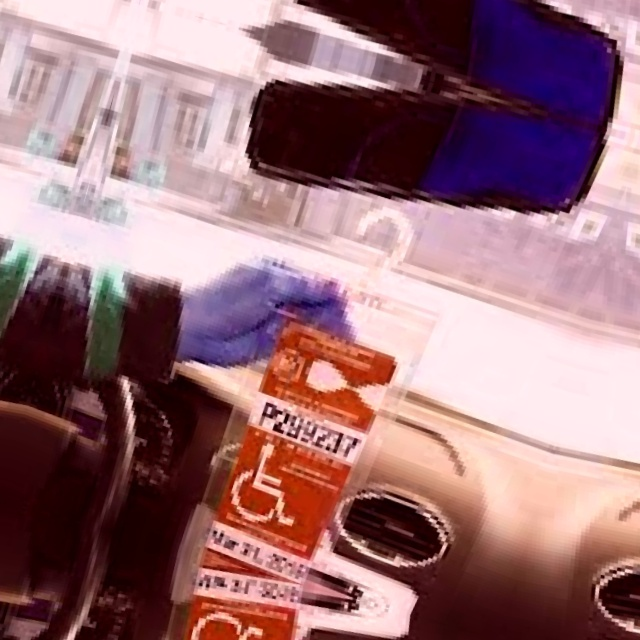ISA: (222, 434, 320, 540), (176, 600, 274, 640)
